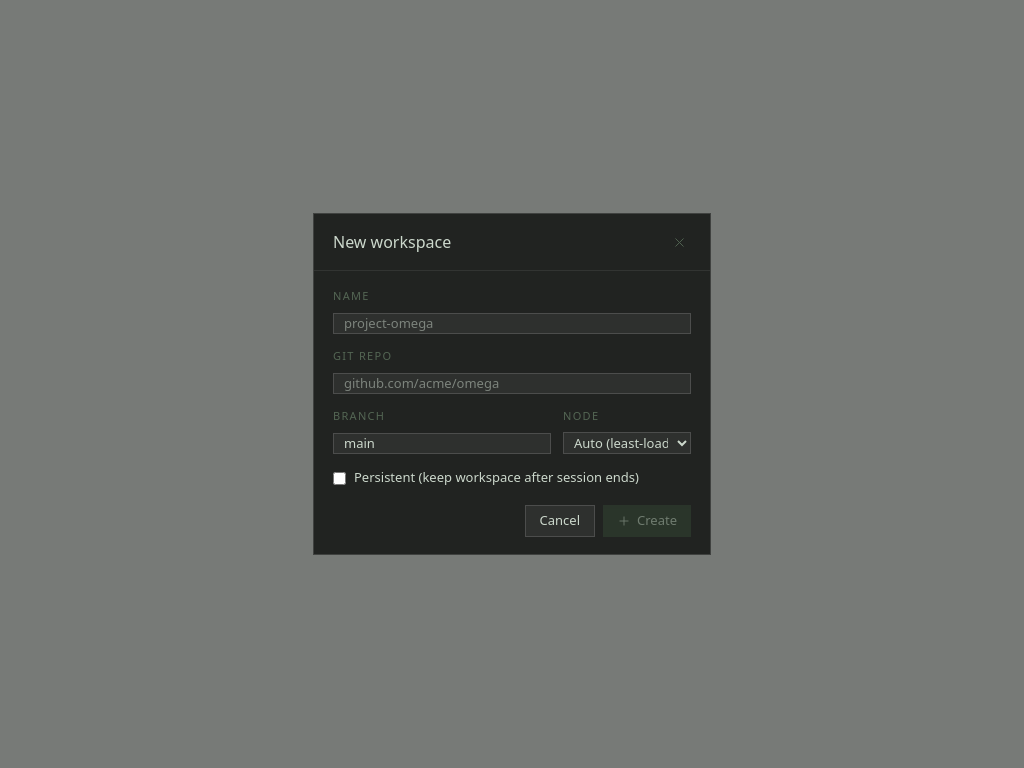
Test case: NewWorkspaceModal — validation (UI-03) › shows the verbatim `{Field} is required.` helper on a blurred-empty field
Touch then clear Git repo to trip its required helper.
Step 1. Type "x" into the field labelled "Git repo" → (512, 384), box [333, 373, 691, 394]
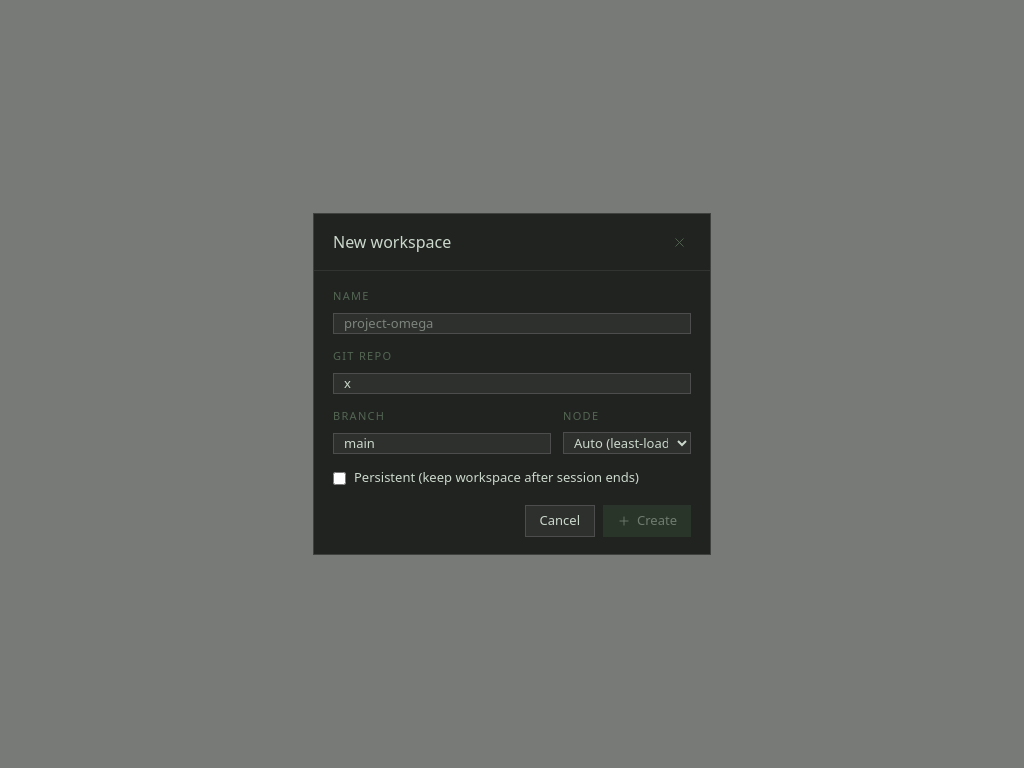
Step 2. Clear the field labelled "Git repo" → (512, 384), box [333, 373, 691, 394]
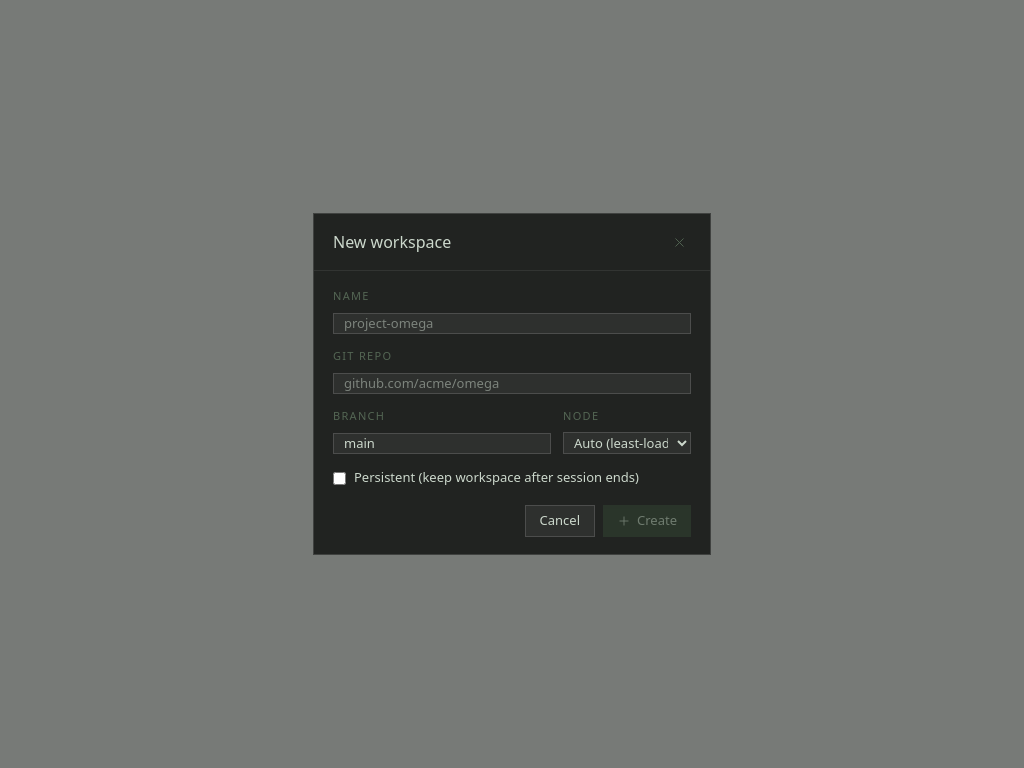
Step 3. Leave the field labelled "Git repo", box [333, 373, 691, 394]
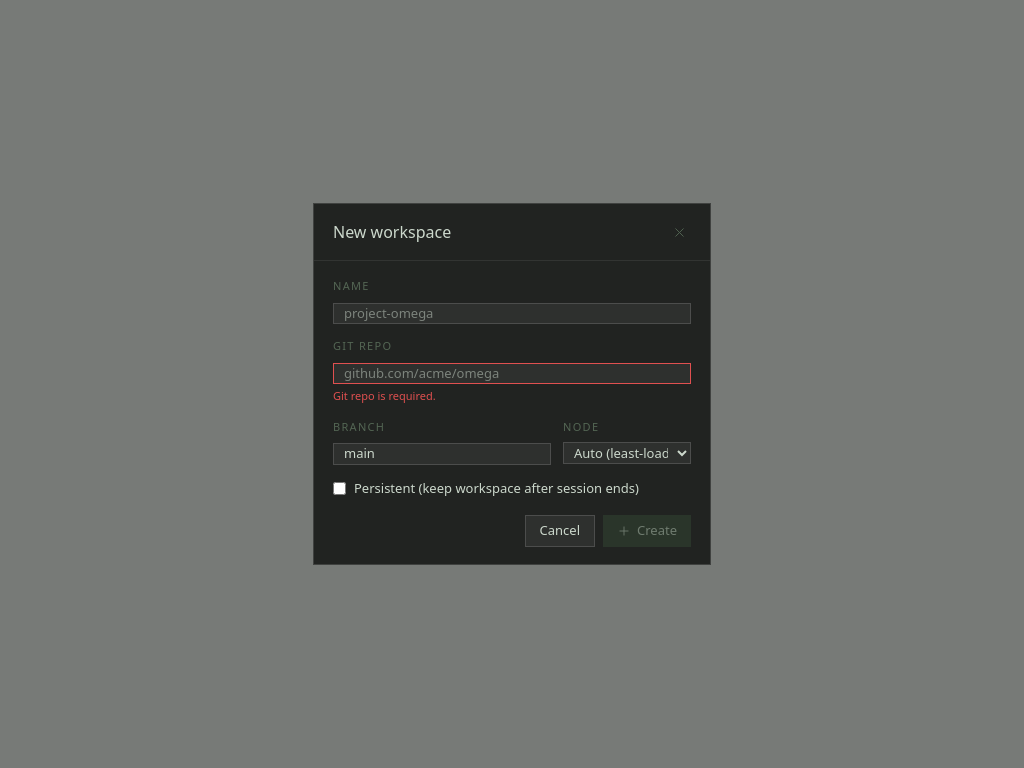
Expected: the text "Git repo is required." is shown, [333, 388, 436, 403]
